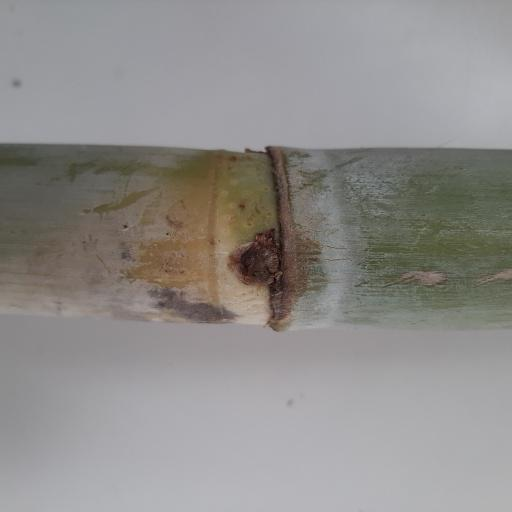Bud: (235, 245, 278, 283)
